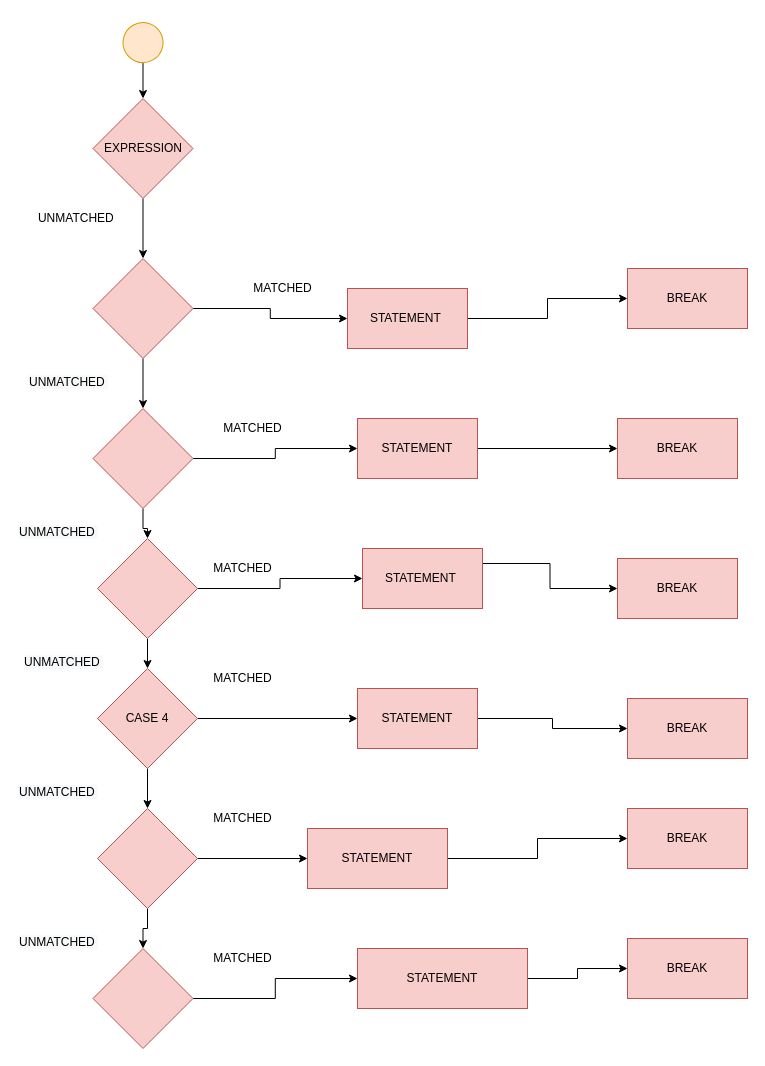
Some shapes in this 765 by 1066 pixel diagram are drawn without their labels. Each missing label, with the centre of its shape:
CASE 1: [142,308]
CASE 2: [142,458]
CASE 3: [147,588]
CASE 5: [147,858]
DEFAULT: [142,998]
